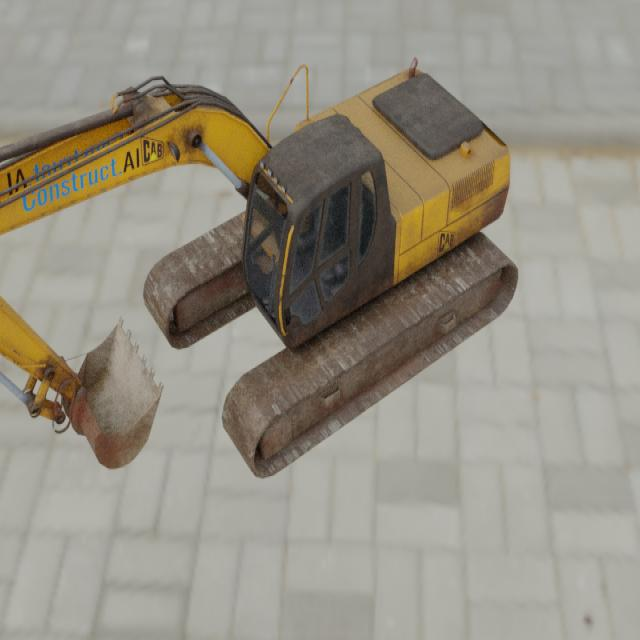excavator: (0, 56, 520, 479)
